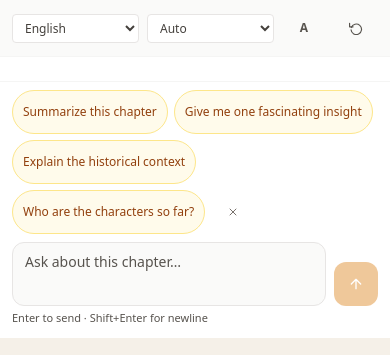
it: InsightChat — chatFontSize toggle (lines 262-264) › toggles back from sm to xs on second click
# First click: xs → sm
Step 1. Click the button titled "Toggle font size" → (304, 28), box [282,6,326,50]
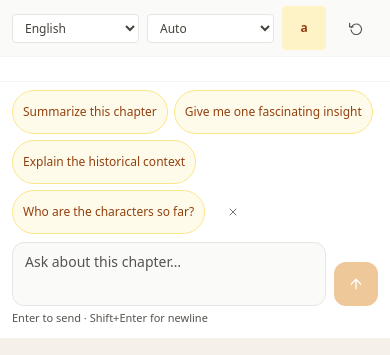
# Second click: sm → xs
Step 2. Click the button titled "Toggle font size" → (304, 28), box [282,6,326,50]
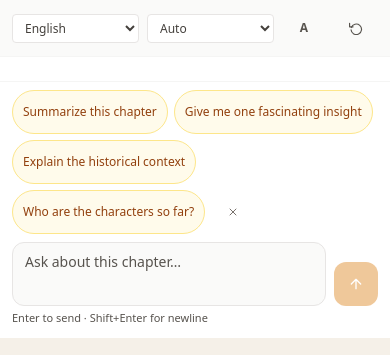
Expected: the button titled "Toggle font size" reads "A", [282,6,326,50]
